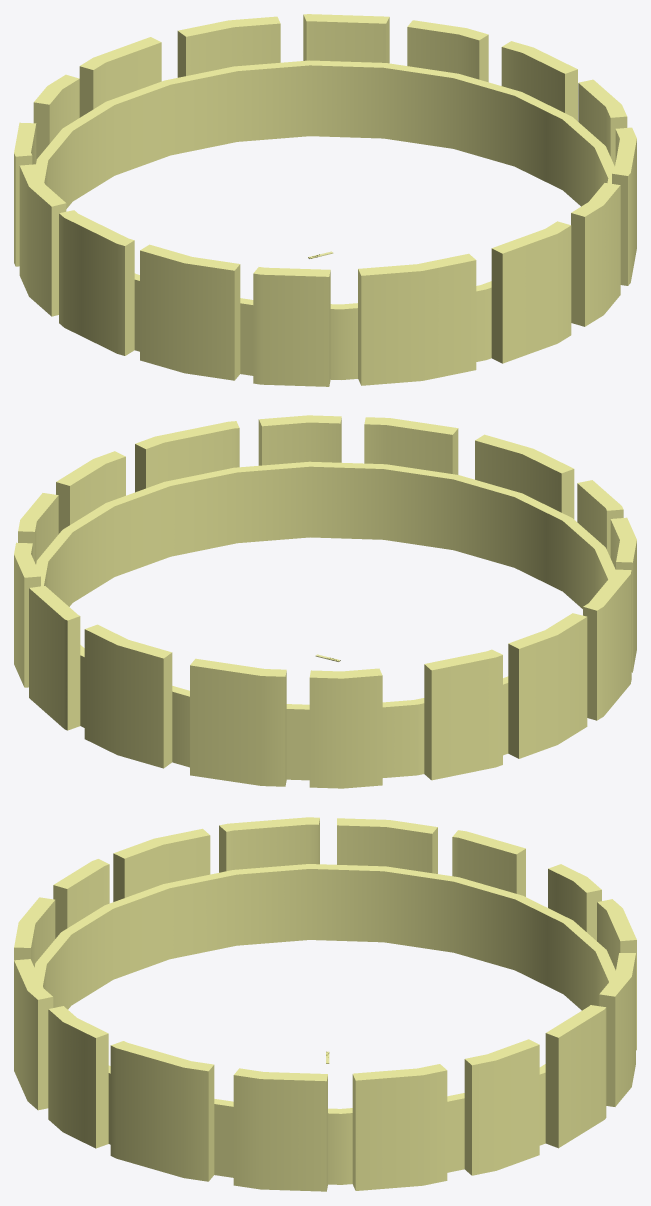
Rendered from volume_zootropio.glb.
3 renders of one model, top to bottom at view 1: azimuth 30°, elevation 25°; view 2: azimuth 150°, elevation 25°; view 3: azimuth 270°, elevation 25°, orthographic.
Parts seen in each view (by area): view 1: VolumeZootropio; view 2: VolumeZootropio; view 3: VolumeZootropio.
Boxes of the visible parts, <box> form: VolumeZootropio: <box>14,14,636,386</box>; VolumeZootropio: <box>14,415,636,788</box>; VolumeZootropio: <box>14,817,636,1191</box>.
Bounding box in the file's own units: 46.11 × 9 × 46.
